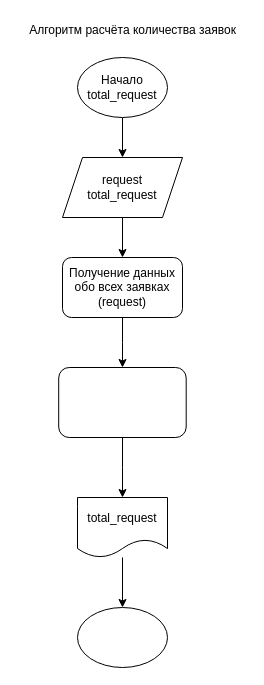
The diagram is 264 pixels wide and 685 high, and some of its shapes have lost their labels. The centre of each missing label's shape, as x and y in pixels:
"Занести количество request в переменную total_request" goes at (122,402).
"Конец" goes at (122,637).
